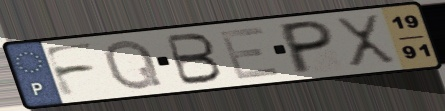B: (163, 31, 226, 87)
E: (216, 24, 285, 81)
F: (41, 40, 101, 100)
P: (279, 18, 335, 78)
Q: (101, 37, 166, 92)
X: (331, 12, 401, 69)
